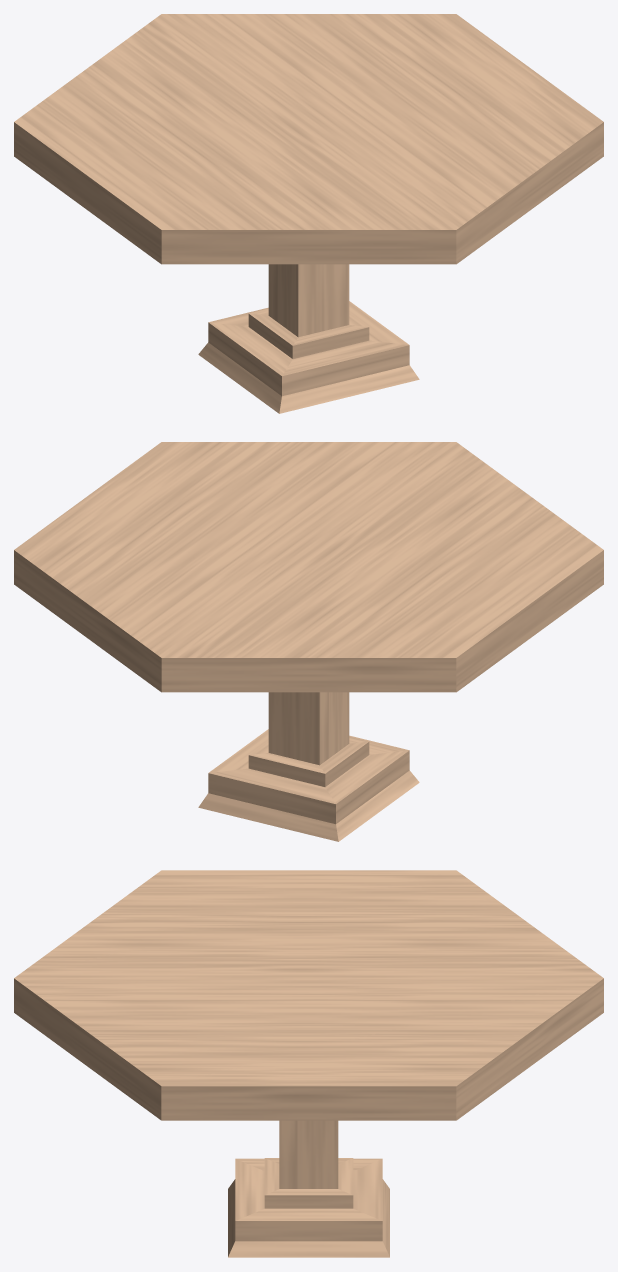
Rendered from tableRound.glb.
3 views of the same model, one above another, from view 1: azimuth 30°, elevation 25°; view 2: azimuth 150°, elevation 25°; view 3: azimuth 270°, elevation 25° (orthographic).
Parts seen in each view (by area): view 1: tableRound; view 2: tableRound; view 3: tableRound.
Part boxes in pixels (x1=…): tableRound: x1=14, y1=14, x2=603, y2=413; tableRound: x1=14, y1=442, x2=603, y2=841; tableRound: x1=14, y1=870, x2=603, y2=1257.
Size of the model in its own units: 0.6928 by 0.3667 by 0.8.
1 material, 1 textured.
